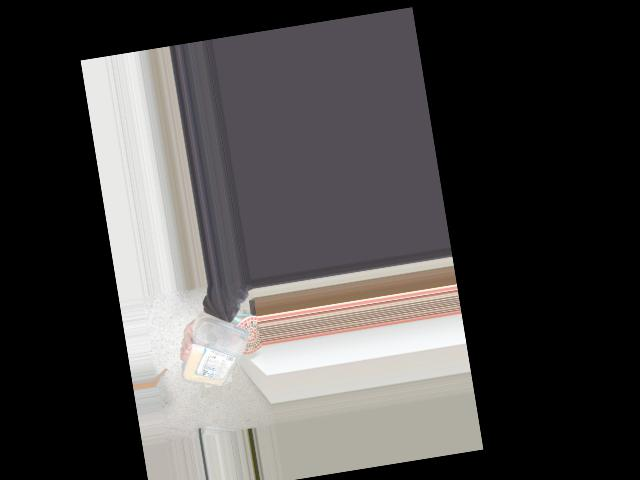cheese: (182, 313, 259, 397)
